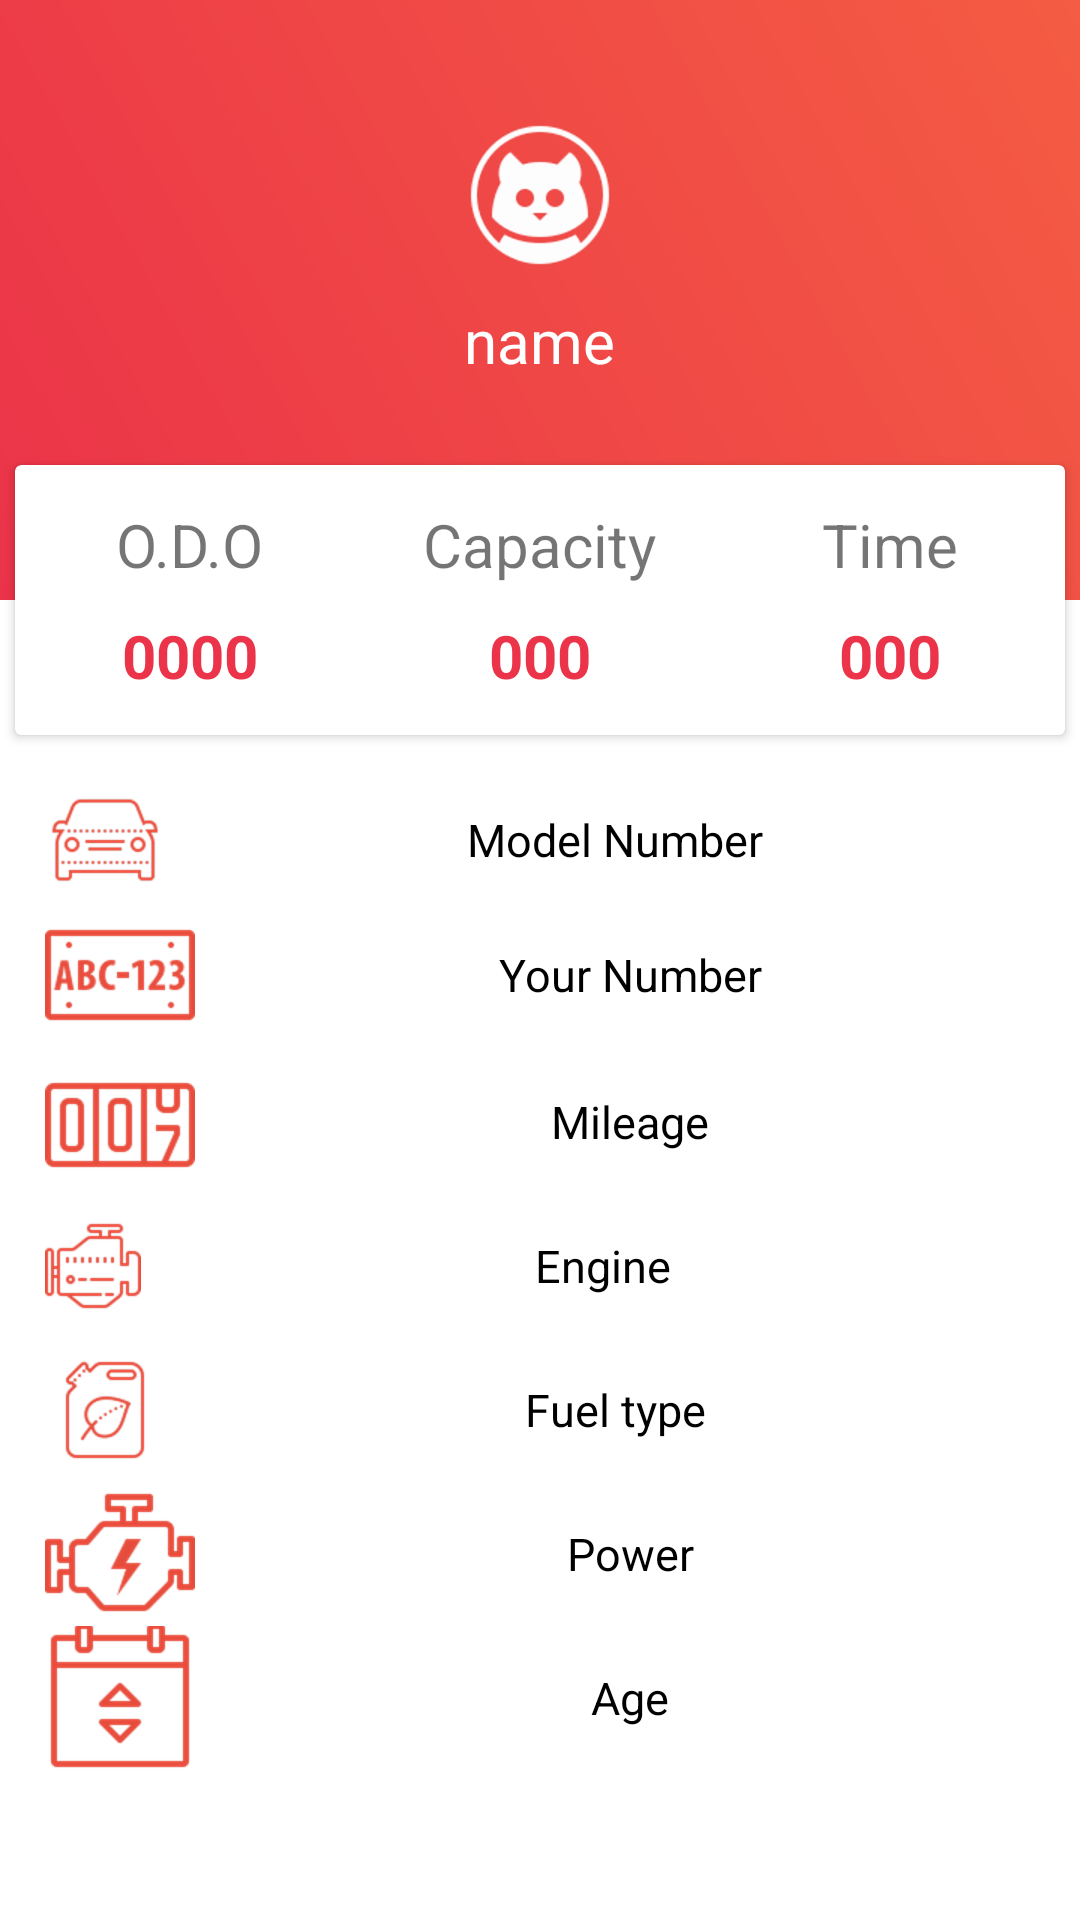

Where icons sit on this 1080 × 1920 app screen, as {"left": x1, "top": y1, "right": x2, "bottom": y2}:
prof: {"left": 470, "top": 125, "right": 610, "bottom": 265}
